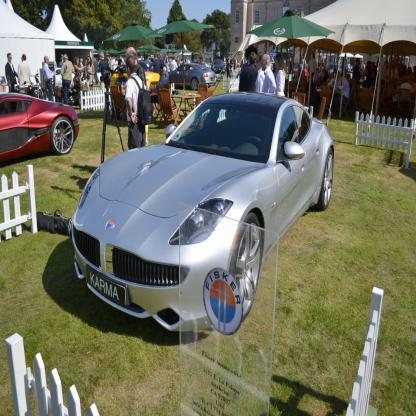Car: (0, 59, 343, 335)
